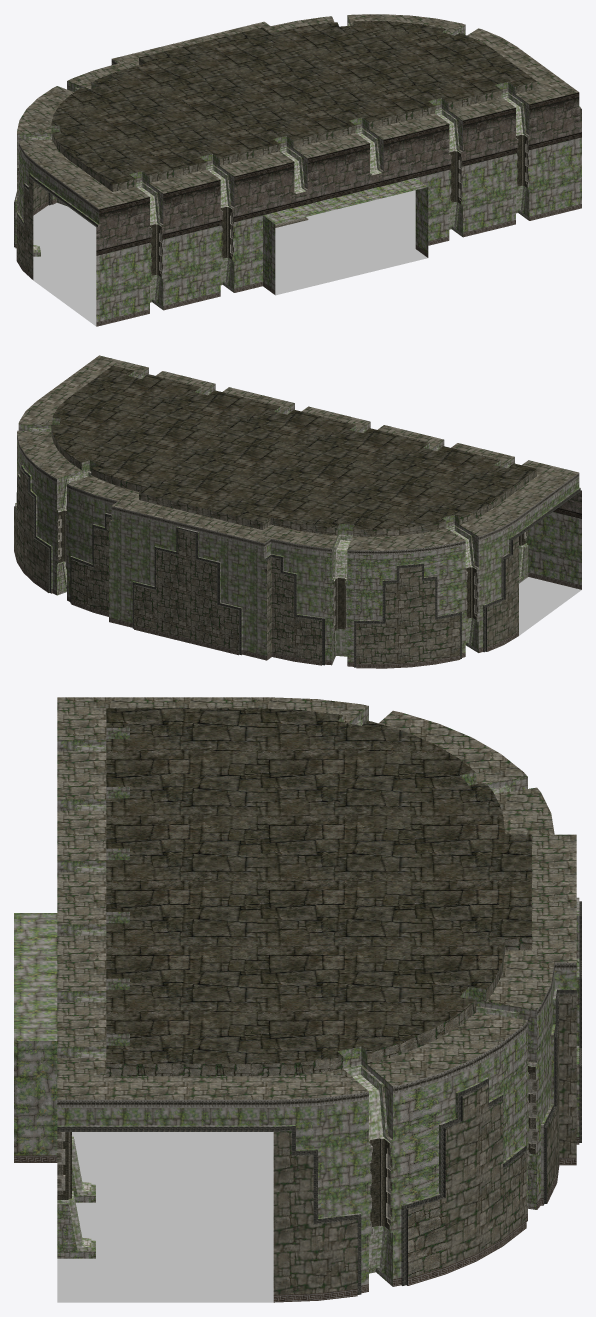
File: thm_yavn_palace_woolamander_r3_soulroom_mesh.fbx
3 renders of one model, top to bottom at view 1: azimuth 30°, elevation 25°; view 2: azimuth 150°, elevation 25°; view 3: azimuth 270°, elevation 25°, orthographic. The views are drawn at different scales.
Visible parts, largest first — view 1: mesh_node; view 2: mesh_node; view 3: mesh_node.
Boxes of the visible parts, x1=… form: mesh_node: x1=14, y1=14, x2=581, y2=326; mesh_node: x1=14, y1=355, x2=581, y2=668; mesh_node: x1=14, y1=697, x2=581, y2=1302.
Bounding box in the file's own units: 44.5 × 10.86 × 26.25.
